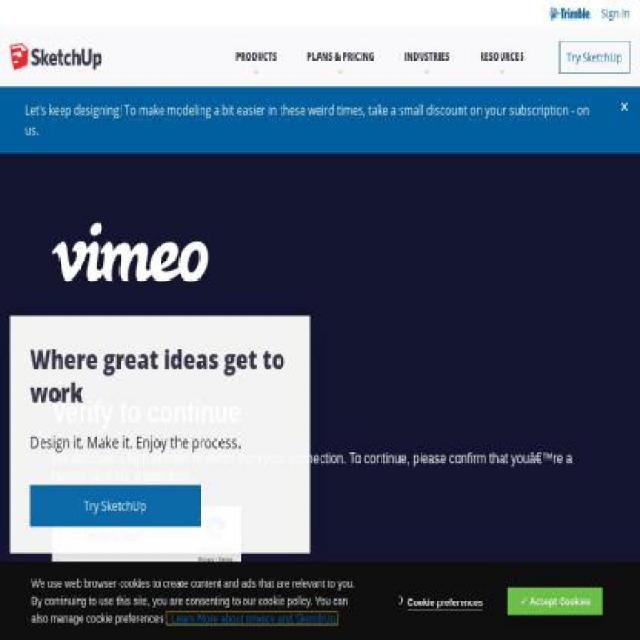button: (14, 100, 626, 140), (30, 485, 201, 527), (292, 27, 390, 87), (389, 27, 465, 87), (464, 27, 539, 87), (220, 27, 292, 87), (558, 40, 631, 74), (9, 44, 102, 70), (406, 596, 483, 610), (519, 595, 592, 608), (622, 98, 628, 114)
